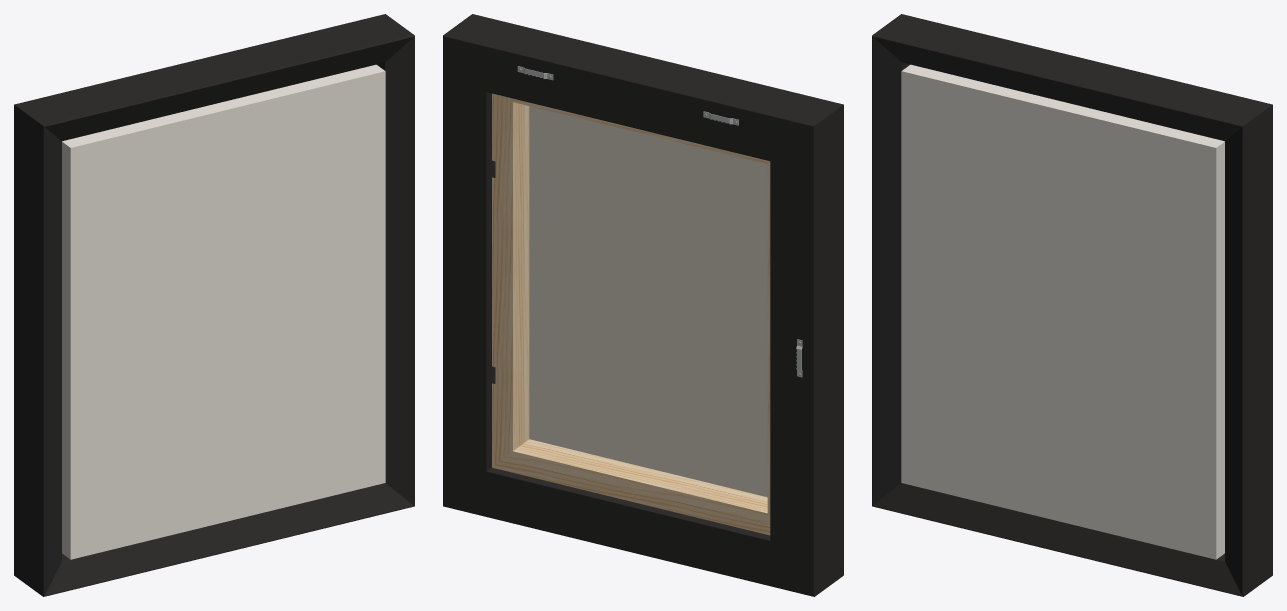
The model's file is decoded-from-delivery.glb.
The picture shows the model from 3 angles, left to right: view 1: azimuth 30°, elevation 25°; view 2: azimuth 150°, elevation 25°; view 3: azimuth 330°, elevation 25°; orthographic projection.
Visible parts, largest first — view 1: Canvas artwork front, Tray approved profile 0; view 2: Tray approved profile 0, Canvas linen reverse, Stretcher top, Sawtooth hanger 0; view 3: Canvas artwork front, Tray approved profile 0.
Boxes of the visible parts, x1=… form: Canvas artwork front: x1=62, y1=64, x2=385, y2=559; Tray approved profile 0: x1=14, y1=14, x2=414, y2=596; Tray approved profile 0: x1=443, y1=14, x2=843, y2=596; Canvas linen reverse: x1=529, y1=106, x2=767, y2=497; Stretcher top: x1=492, y1=93, x2=770, y2=535; Sawtooth hanger 0: x1=517, y1=66, x2=802, y2=377; Canvas artwork front: x1=901, y1=64, x2=1224, y2=559; Tray approved profile 0: x1=872, y1=14, x2=1272, y2=596.
Size of the model in its own units: 0.472 by 0.572 by 0.0684.
Materials: 7 (2 with a texture image).
